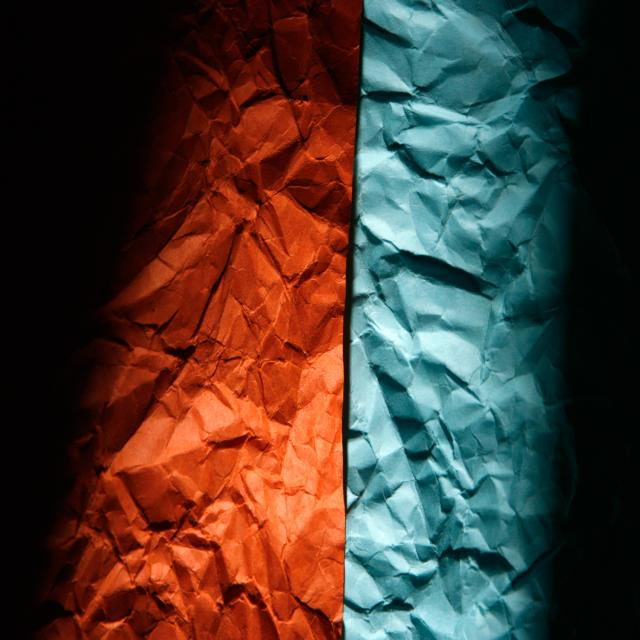paper: (169, 127, 310, 474), (384, 191, 485, 550)
